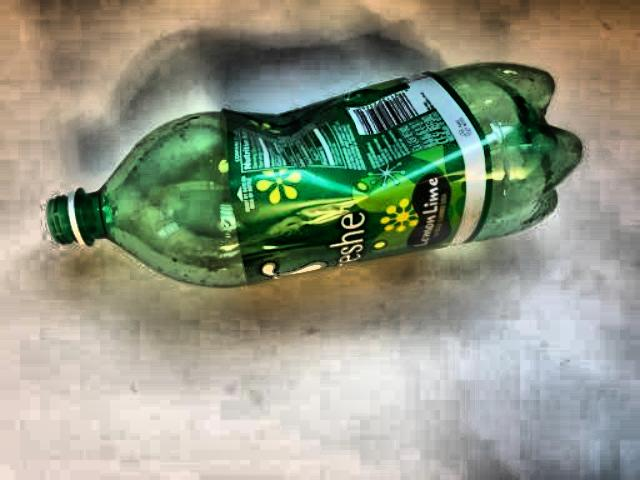Bottles: (23, 55, 595, 292)
